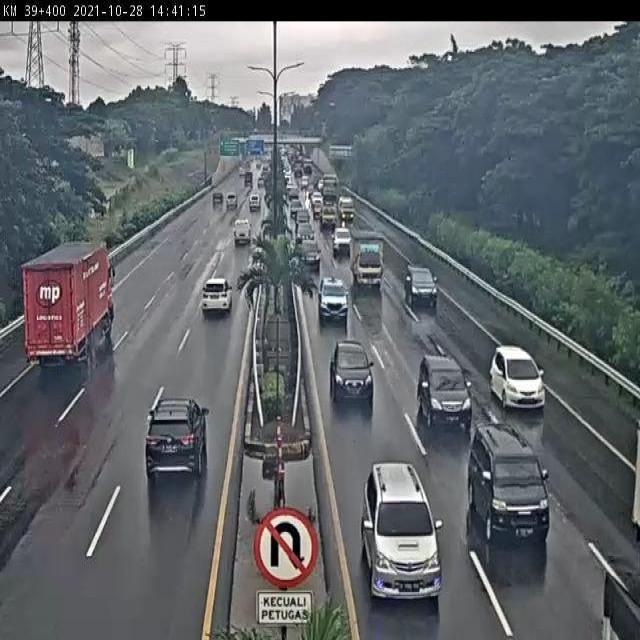car: (362, 463, 444, 603), (465, 426, 552, 542), (146, 399, 208, 483), (417, 355, 473, 429), (490, 347, 548, 409), (329, 340, 374, 404), (317, 275, 348, 323), (404, 264, 438, 305), (201, 278, 233, 314), (299, 240, 321, 271), (234, 219, 251, 244)
truck: (21, 241, 115, 364), (349, 228, 384, 287)
